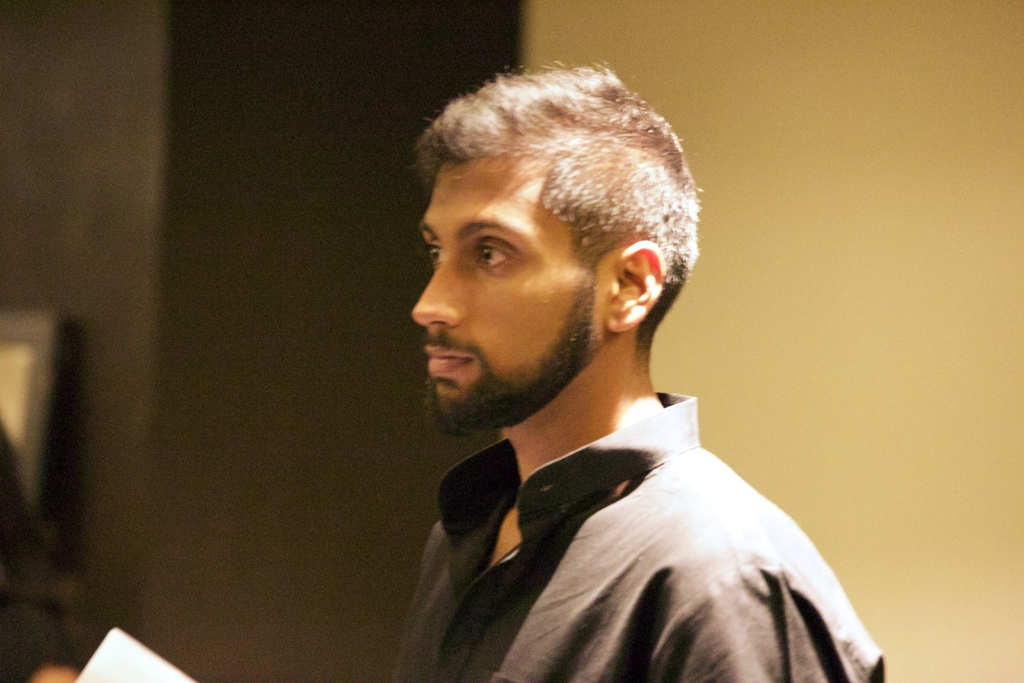Human-face: (412, 156, 603, 436)
